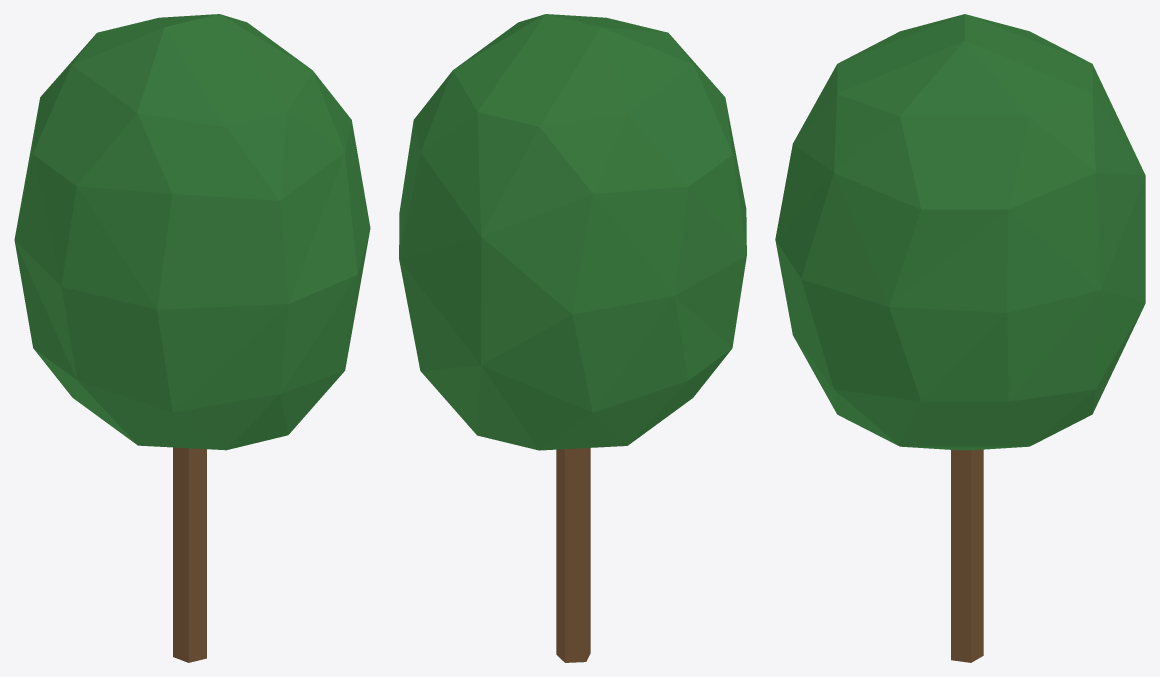
File: tree-round.glb
The picture shows the model from 3 angles, left to right: view 1: azimuth 30°, elevation 25°; view 2: azimuth 150°, elevation 25°; view 3: azimuth 270°, elevation 25°; orthographic projection.
Parts seen in each view (by area): view 1: tree-round; view 2: tree-round; view 3: tree-round.
Boxes of the visible parts, x1,y1,x2,y2 form: tree-round: [14, 14, 370, 662]; tree-round: [399, 14, 746, 662]; tree-round: [775, 14, 1145, 662].
Bounding box in the file's own units: 2.54 × 5.06 × 2.7.
1 material, 1 textured.
